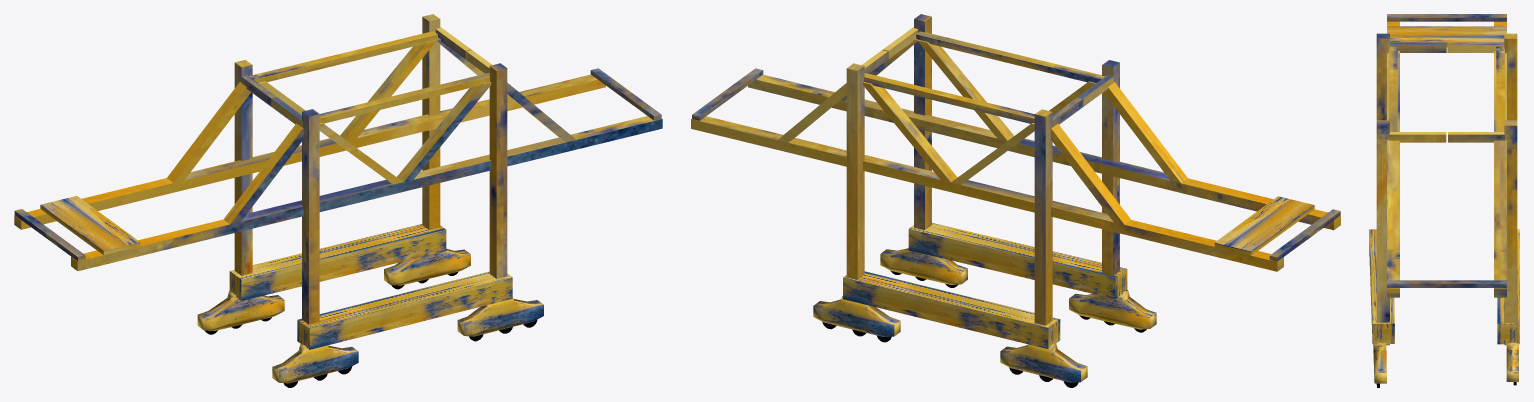
File: Mile.fbx
The picture shows the model from 3 angles, left to right: view 1: azimuth 30°, elevation 25°; view 2: azimuth 150°, elevation 25°; view 3: azimuth 270°, elevation 25°; orthographic projection. The views are drawn at different scales.
Visible parts, largest first — view 1: Cube_x0020_28; view 2: Cube_x0020_28; view 3: Cube_x0020_28.
Boxes of the visible parts, box(x1,y1,x2,y2) form: Cube_x0020_28: box(14, 14, 662, 387); Cube_x0020_28: box(691, 14, 1340, 387); Cube_x0020_28: box(1369, 14, 1519, 387).
Size of the model in its own units: 69.88 by 30.26 by 16.44.
Materials: 2 (1 with a texture image).
